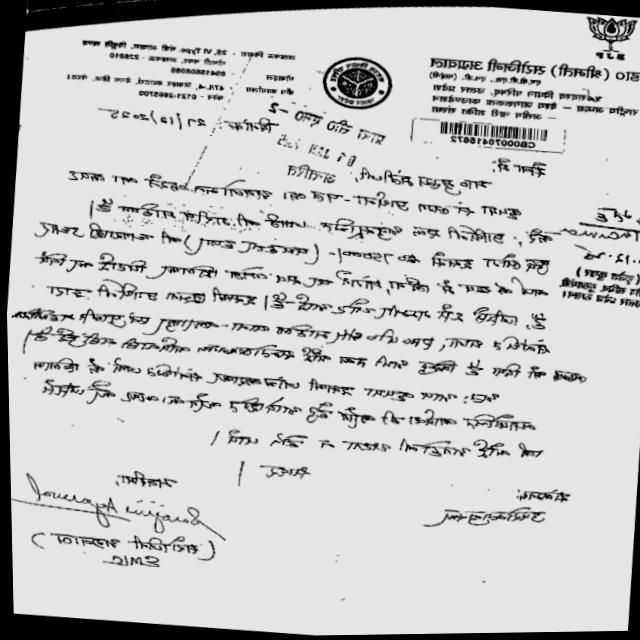antritgovtstamp: (257, 96, 396, 195)
barcode: (400, 111, 575, 160)
logo: (316, 53, 393, 116)
partylogo: (566, 12, 640, 69)
signature: (10, 457, 239, 545)
signnamestamp: (549, 216, 640, 313)
